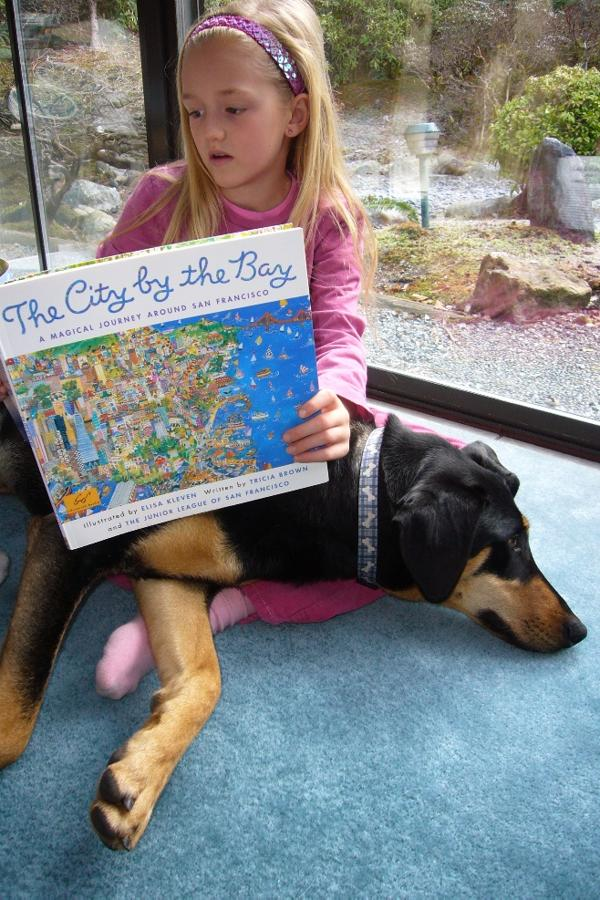person: (91, 5, 392, 688)
